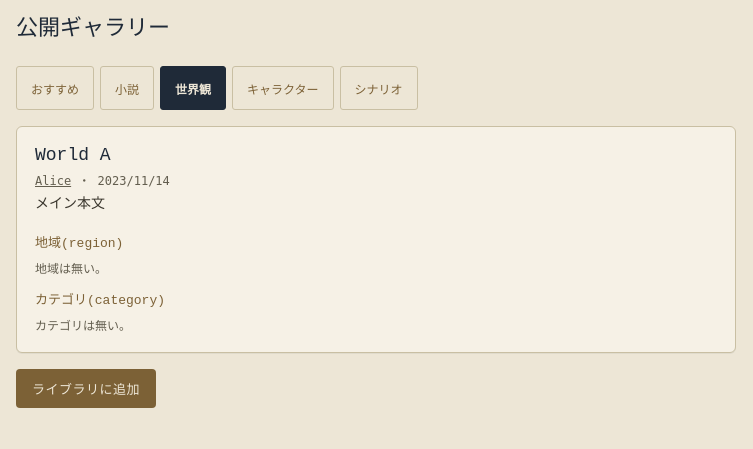
Gallery › shows the err.message when importing a world fails
Expected: the text "メイン本文" is shown, top-left (35, 196), bottom-right (105, 211)
What coordinates should you click on to do the following:
click the button "ライブラリに追加"
I would click on:
 (86, 388)
Its box is top-left (16, 369), bottom-right (156, 408).
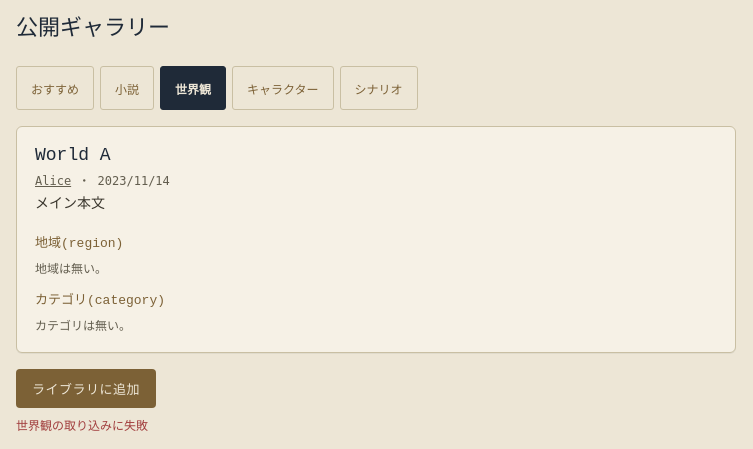
Expected: the text "世界観の取り込みに失敗" is shown, top-left (16, 419), bottom-right (148, 433)
